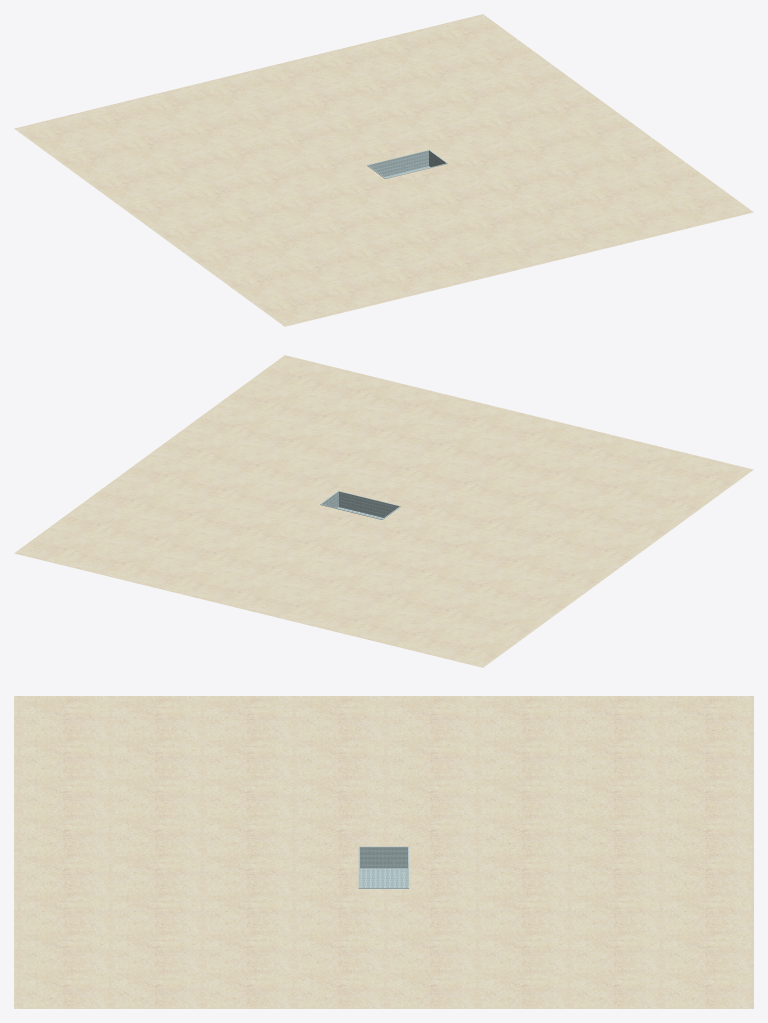
The model's file is pool.fbx.
3 views of the same model, one above another, from view 1: azimuth 30°, elevation 25°; view 2: azimuth 150°, elevation 25°; view 3: azimuth 270°, elevation 25° (orthographic). The views are drawn at different scales.
Visible parts, largest first — view 1: pPlane8, pCube6; view 2: pPlane8, pCube6; view 3: pPlane8, pCube6.
Boxes of the visible parts, x1,y1,x2,y2 form: pPlane8: (14, 14, 753, 326); pCube6: (367, 150, 447, 178); pPlane8: (14, 355, 753, 667); pCube6: (320, 491, 400, 519); pPlane8: (14, 696, 753, 1008); pCube6: (358, 846, 409, 888).
Bounding box in the file's own units: 600 × 20 × 600.
Materials: 2 (2 with a texture image).
